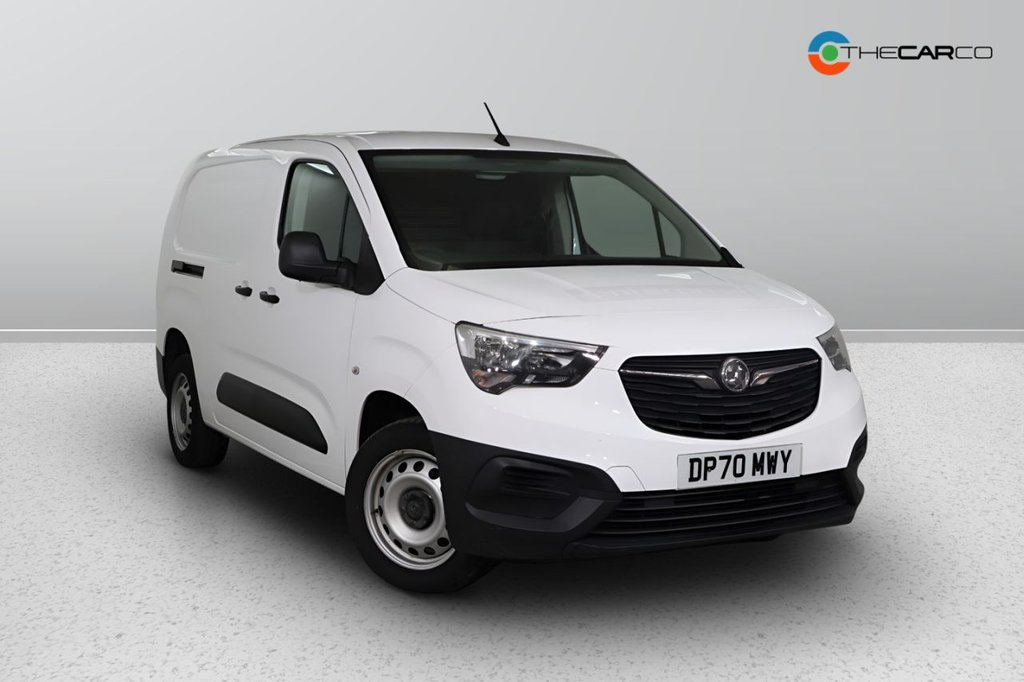car: (145, 124, 873, 592)
